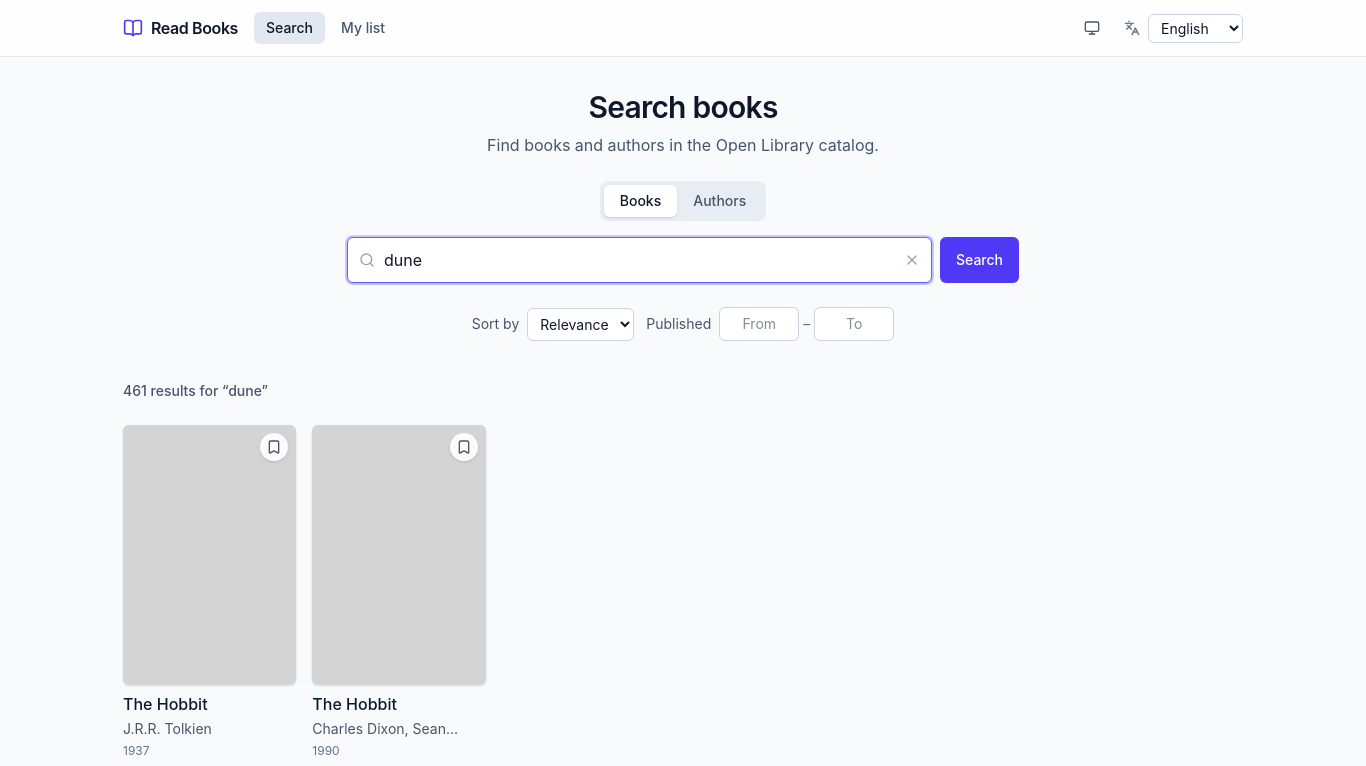
Test case: sort and year filters › filters by first-published year once a full year is typed
This screenshot has width=1366, height=766.
In the field named "Published from (year)": point(759, 324) [719,307,799,341], type "19"
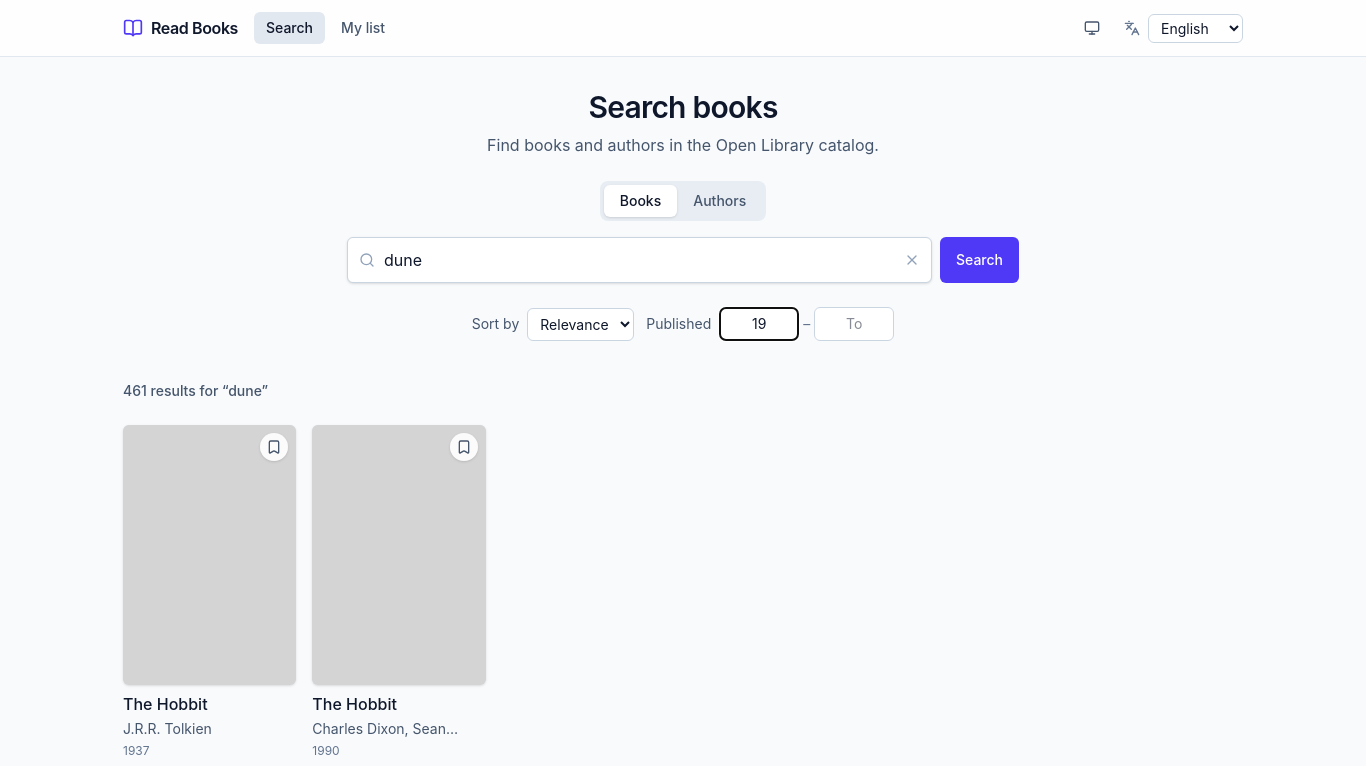
In the field named "Published from (year)": point(759, 324) [719,307,799,341], type "6x0"
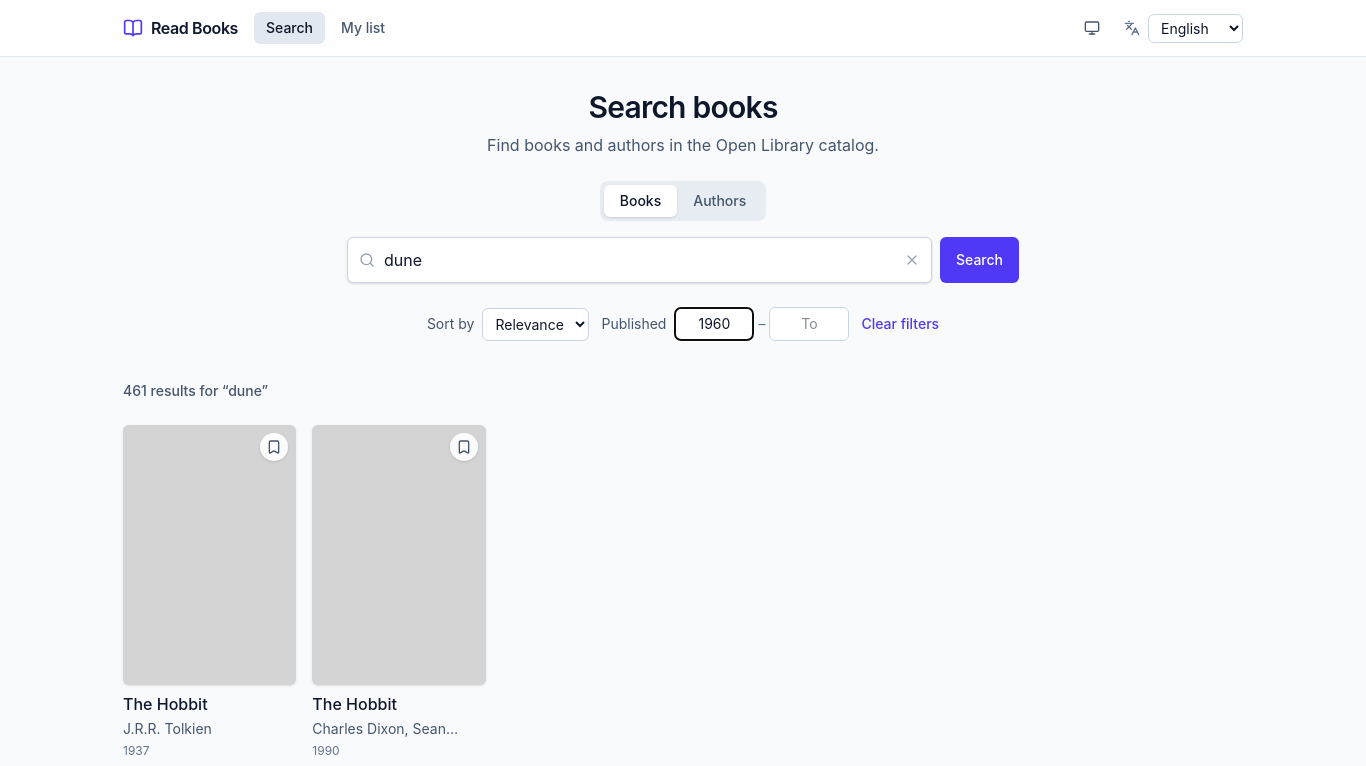
Result: the field named "Published from (year)" holds "1960" at [674,307,754,341]
In the field named "Published until (year)": point(809, 324) [769,307,849,341], type "1970"
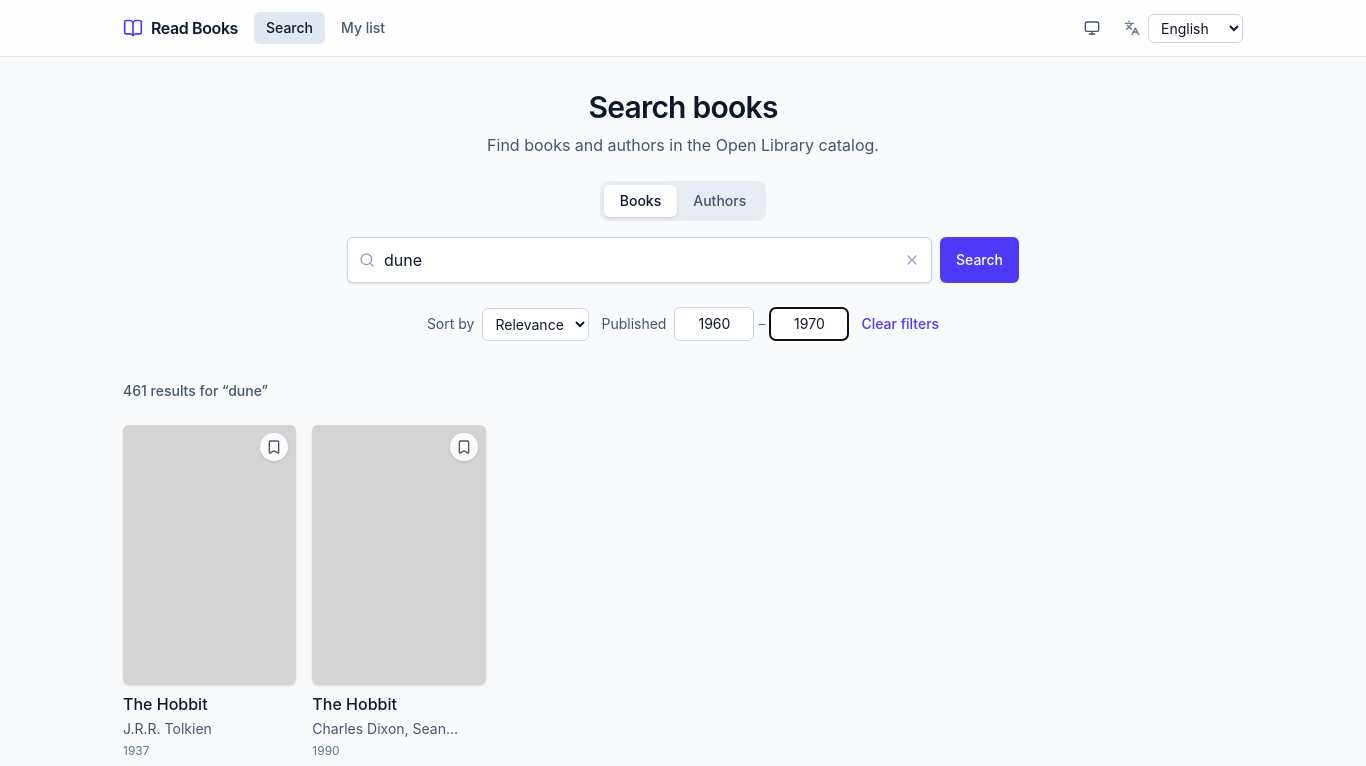
Click the button "Clear filters": point(900, 324) [861,314,939,334]
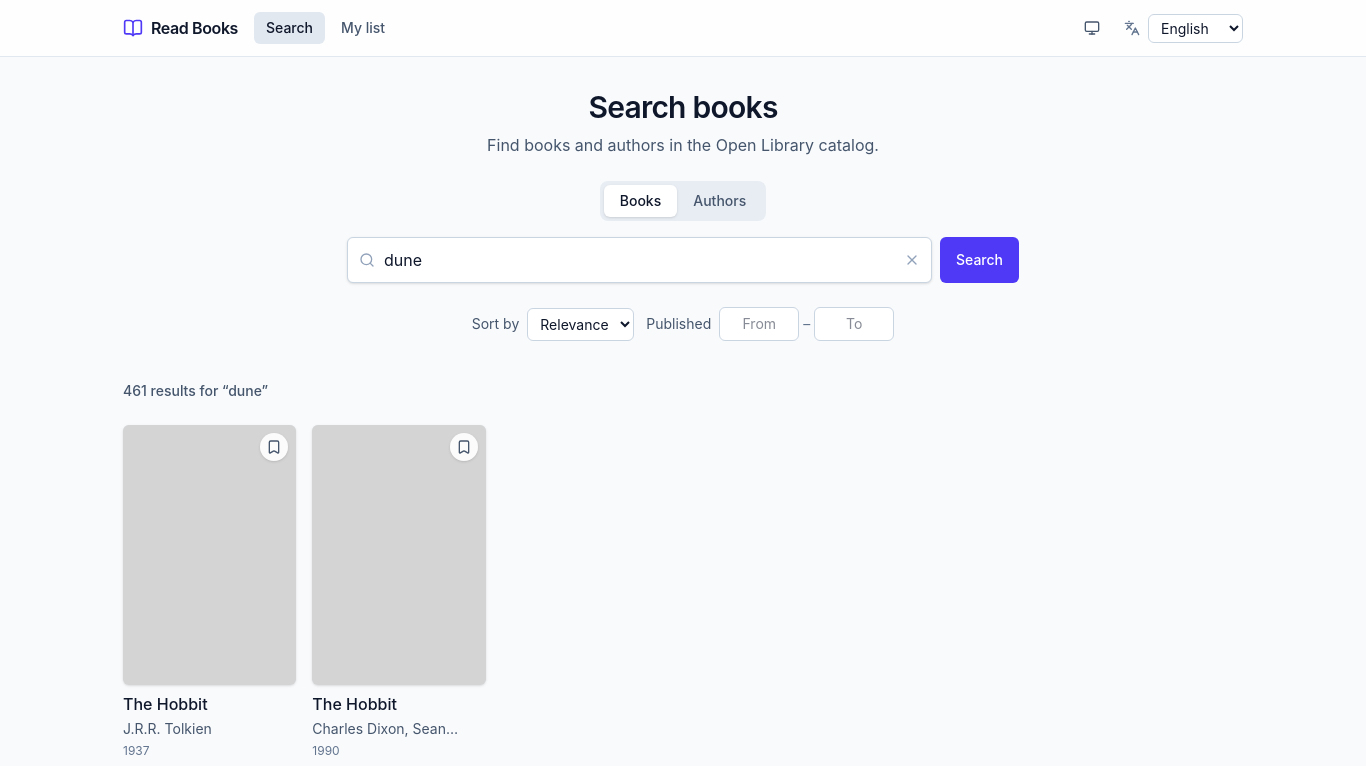
Result: the field named "Published from (year)" is empty at [719,307,799,341]
Result: the button "Clear filters" is gone
